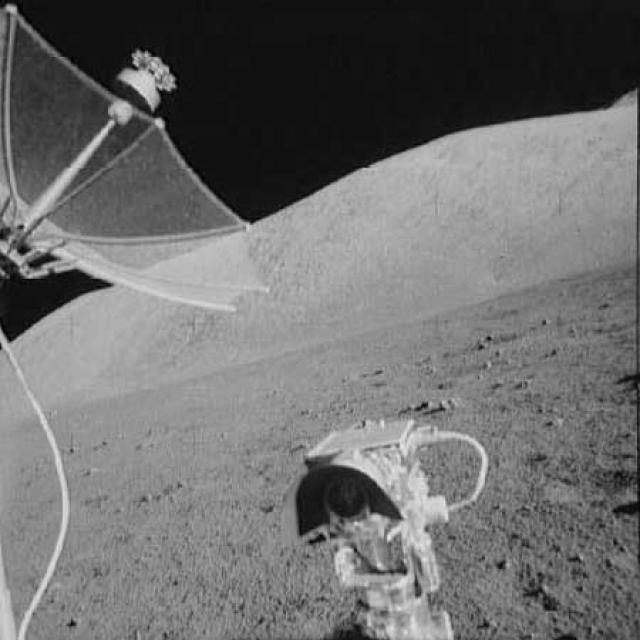artifact: (2, 0, 278, 320), (282, 416, 500, 638), (0, 328, 91, 638)
crater: (413, 329, 522, 364)
rock: (402, 391, 467, 415)
